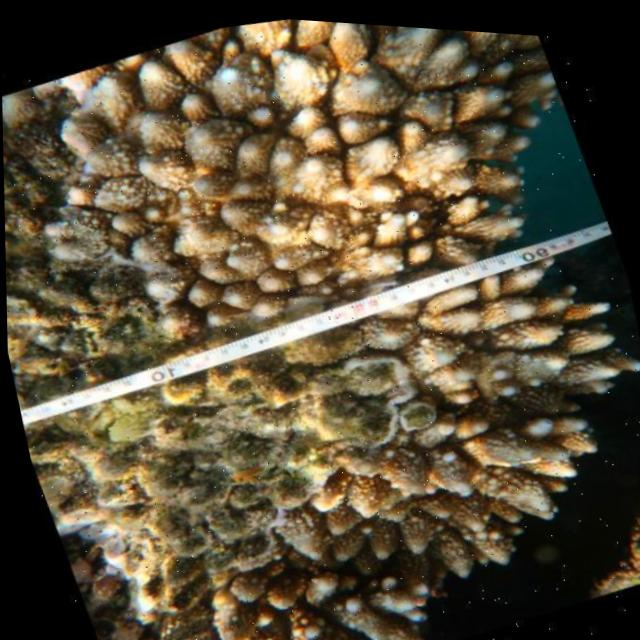Healthy Coral: (11, 1, 580, 337), (237, 260, 625, 591)
